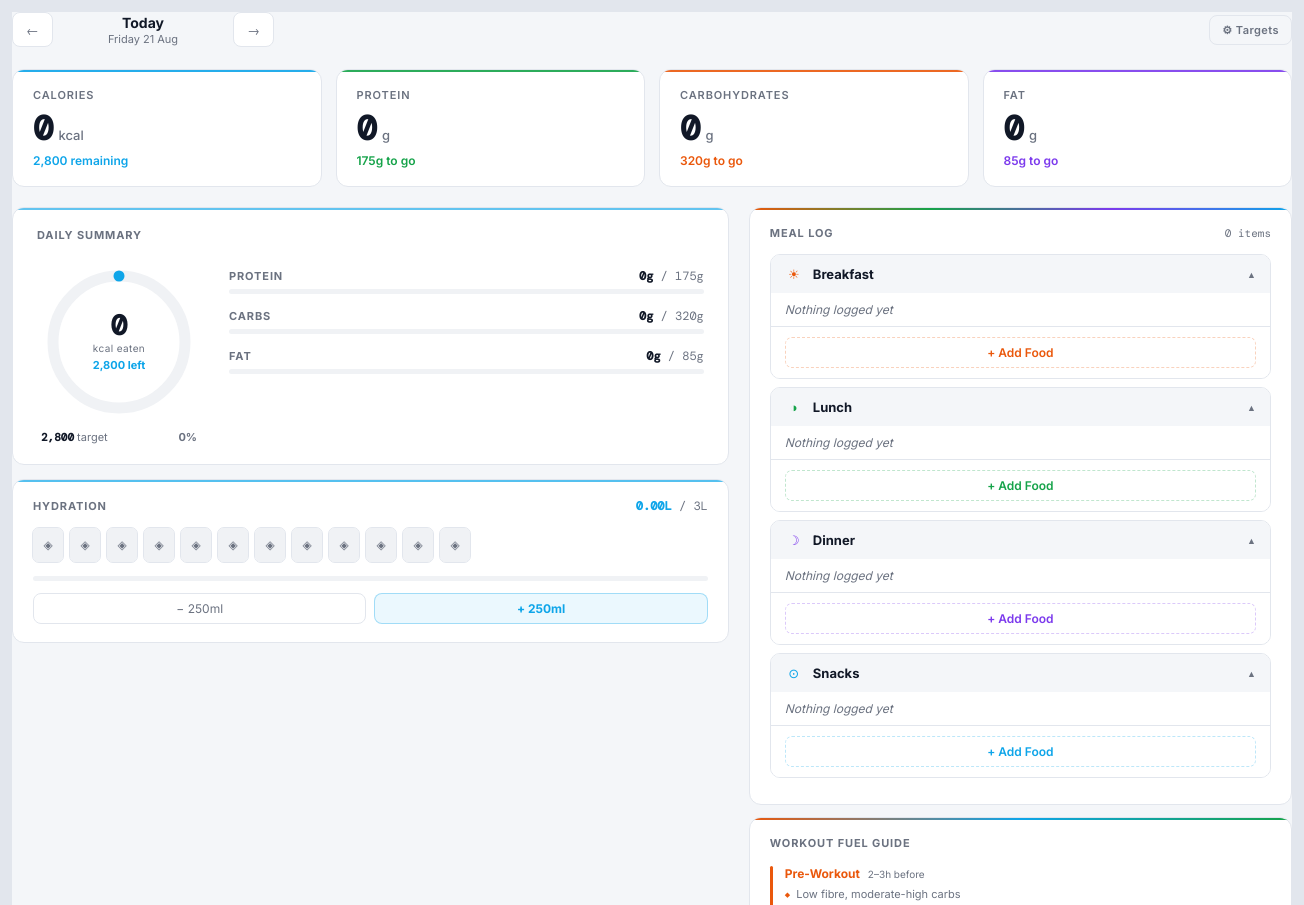
Nutrition page › clicking TODAY after navigating returns to today
The image size is (1304, 905).
Check: the text "Today" is shown, box [122, 14, 164, 30]
Click the button "←".
click(32, 30)  # box [12, 12, 53, 47]
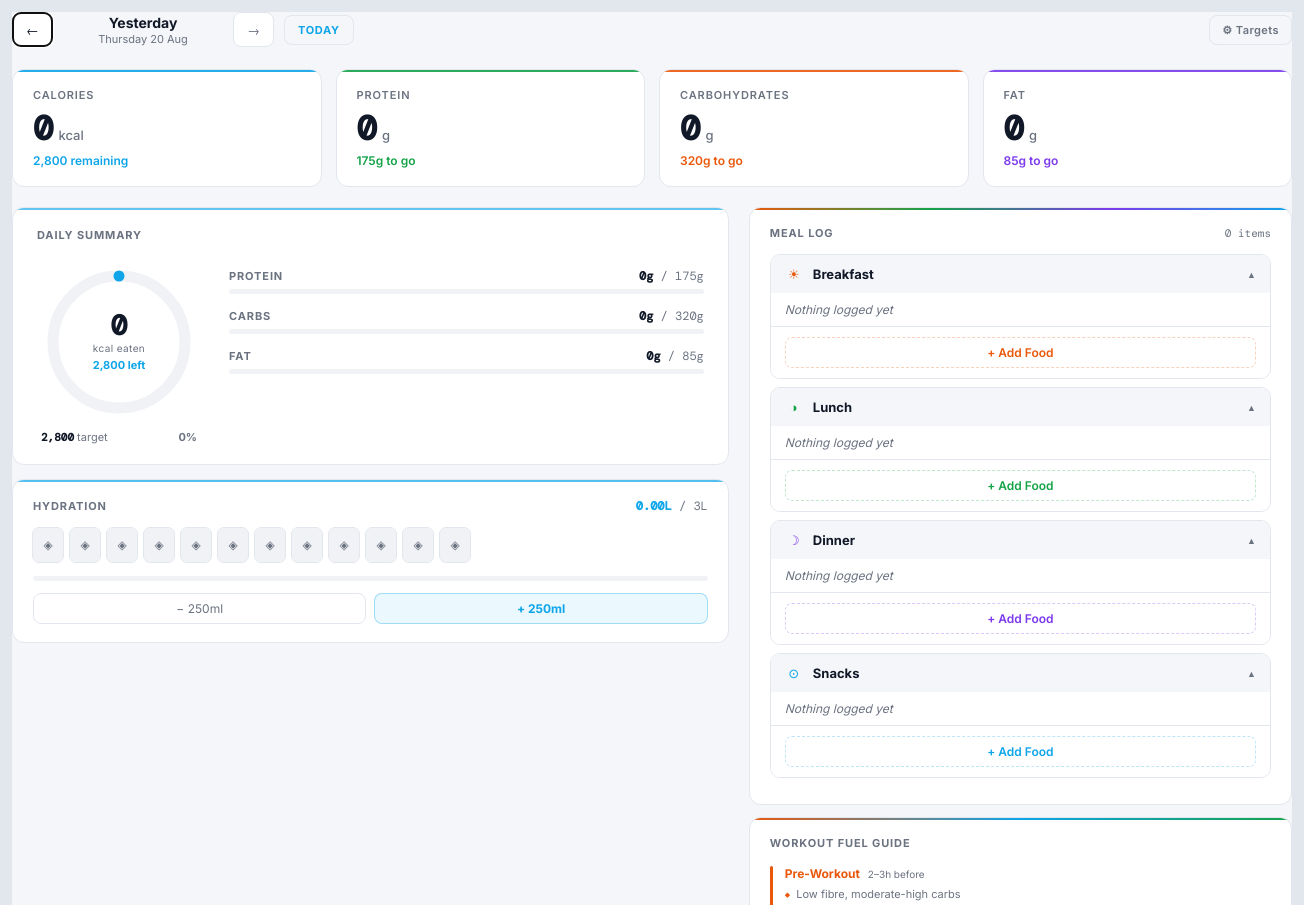
Click the button "TODAY".
click(319, 30)  # box [284, 14, 354, 44]
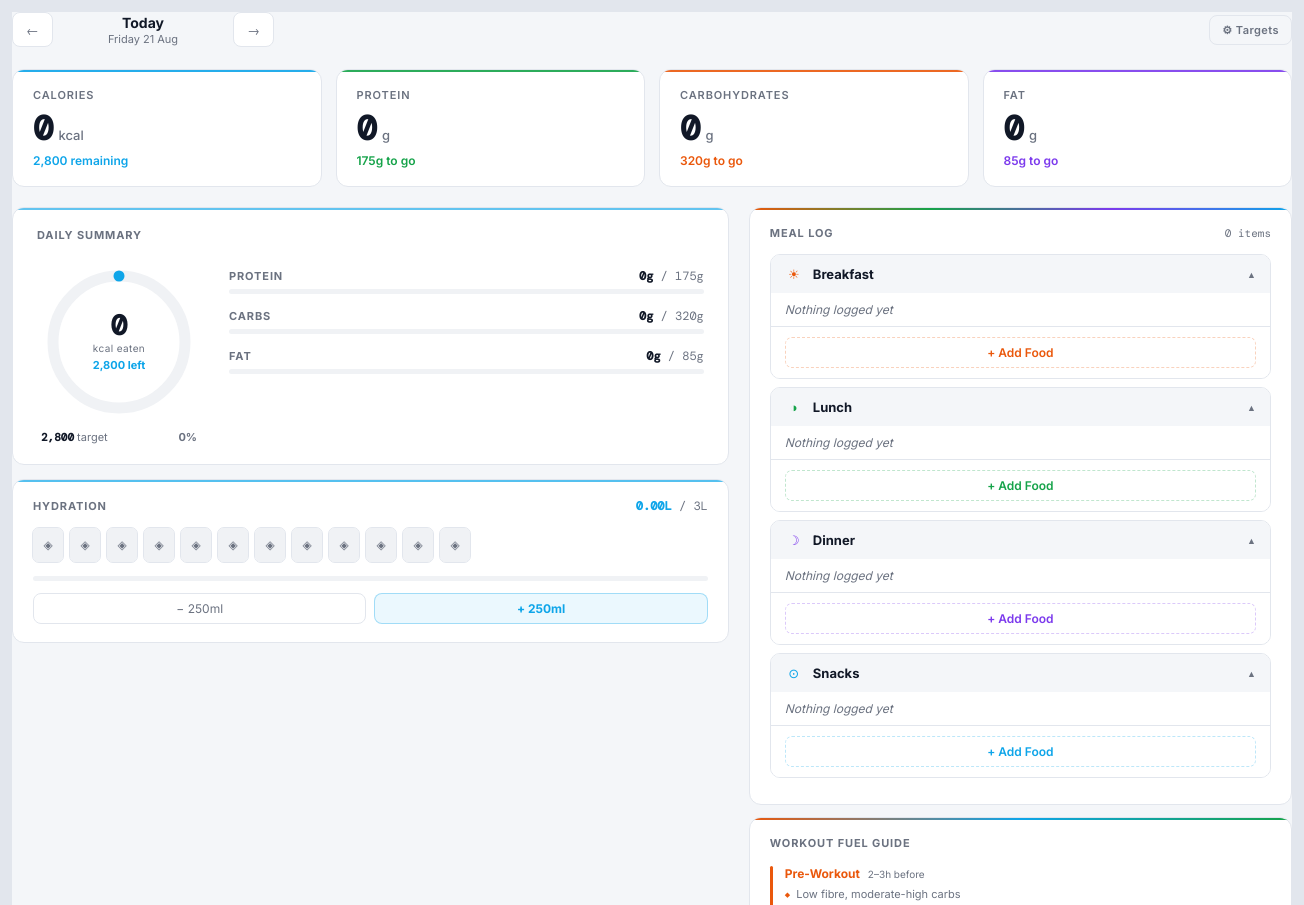
Check: the text "Today" is shown, box [122, 14, 164, 30]
